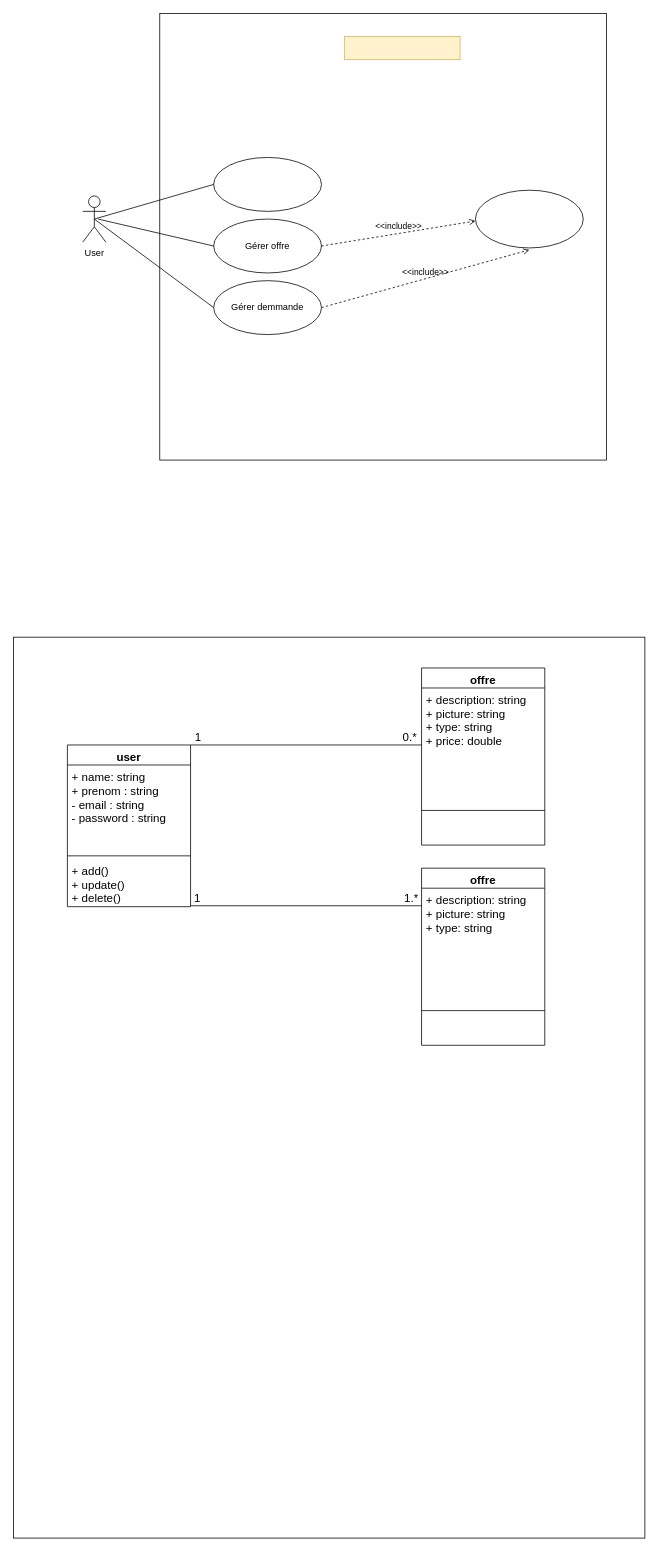
Image size: 658x1552. Some labels were removed from this diagram. Each missing label, with the centre of its shape:
Annonce App: (x=402, y=48)
Créer compte: (x=267, y=184)
S'authetifier: (x=529, y=218)
